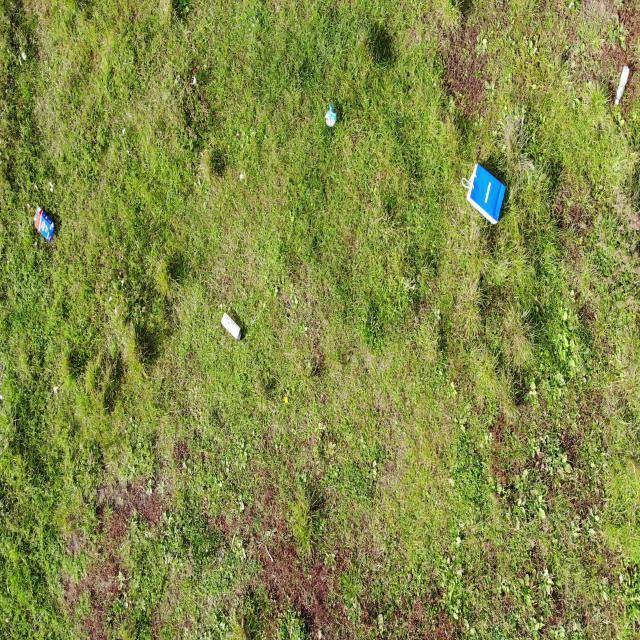rubbish: (466, 162, 506, 227), (34, 204, 56, 240), (614, 63, 631, 109), (221, 311, 243, 345), (325, 104, 336, 127)
